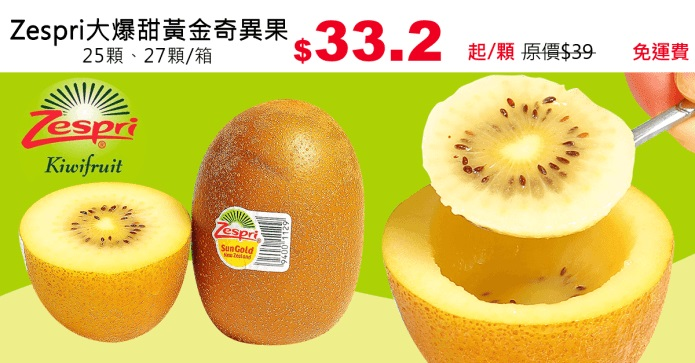kiwi: (381, 176, 673, 363), (191, 99, 365, 345), (18, 182, 191, 342)
